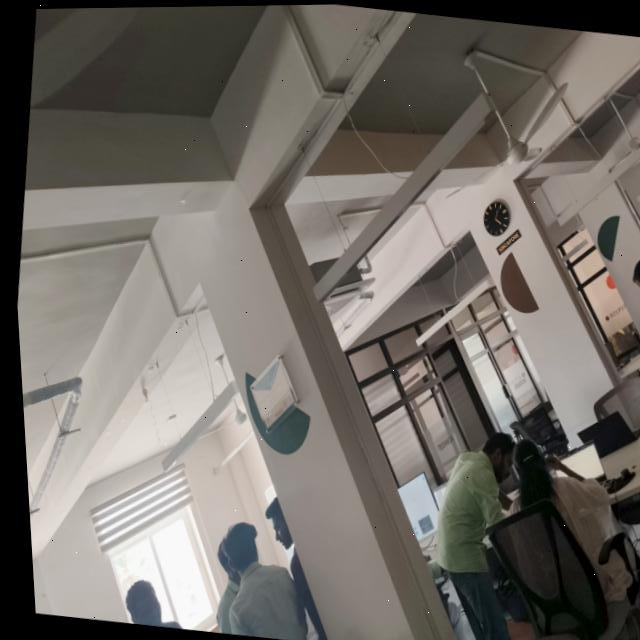fluorescent tube: (285, 58, 526, 329), (135, 365, 274, 486), (544, 97, 640, 241), (390, 262, 498, 361)
